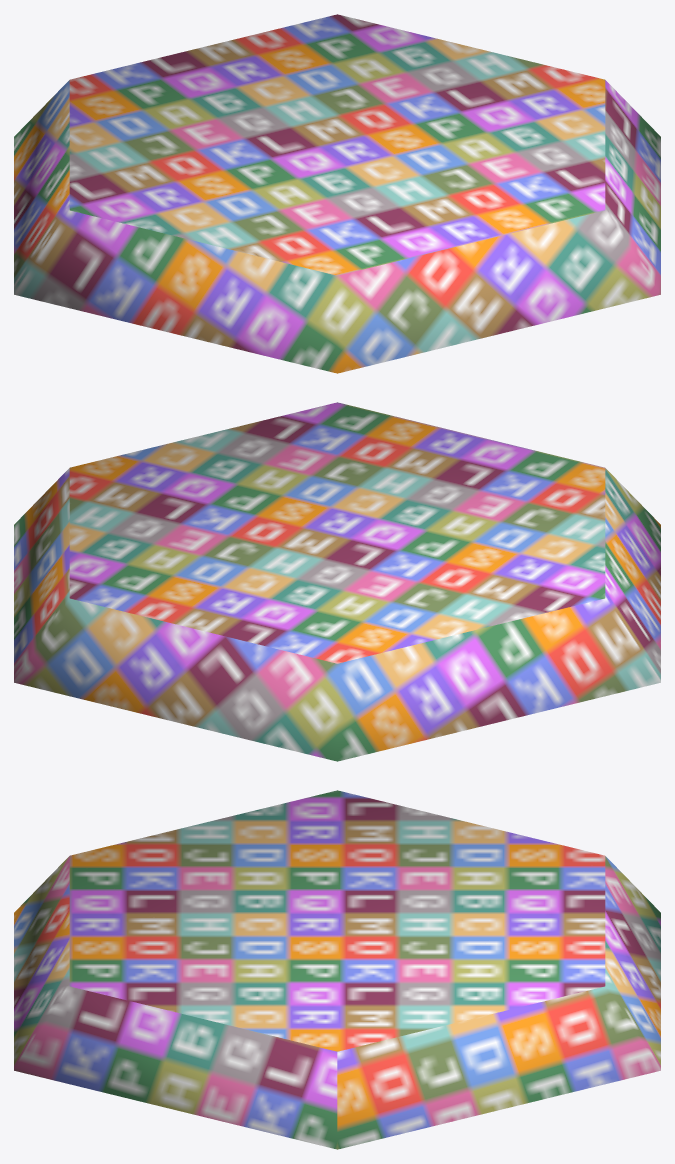
Rendered from hexagon_platform.dae.
The picture shows the model from 3 angles, top to bottom: view 1: azimuth 30°, elevation 25°; view 2: azimuth 150°, elevation 25°; view 3: azimuth 270°, elevation 25°; orthographic projection.
Parts seen in each view (by area): view 1: N-Gon1-0; view 2: N-Gon1-0; view 3: N-Gon1-0.
Boxes of the visible parts, x1,y1,x2,y2 form: N-Gon1-0: (14,14,660,373); N-Gon1-0: (14,402,660,761); N-Gon1-0: (14,790,660,1149).
Size of the model in its own units: 2 by 0.2089 by 1.73.
